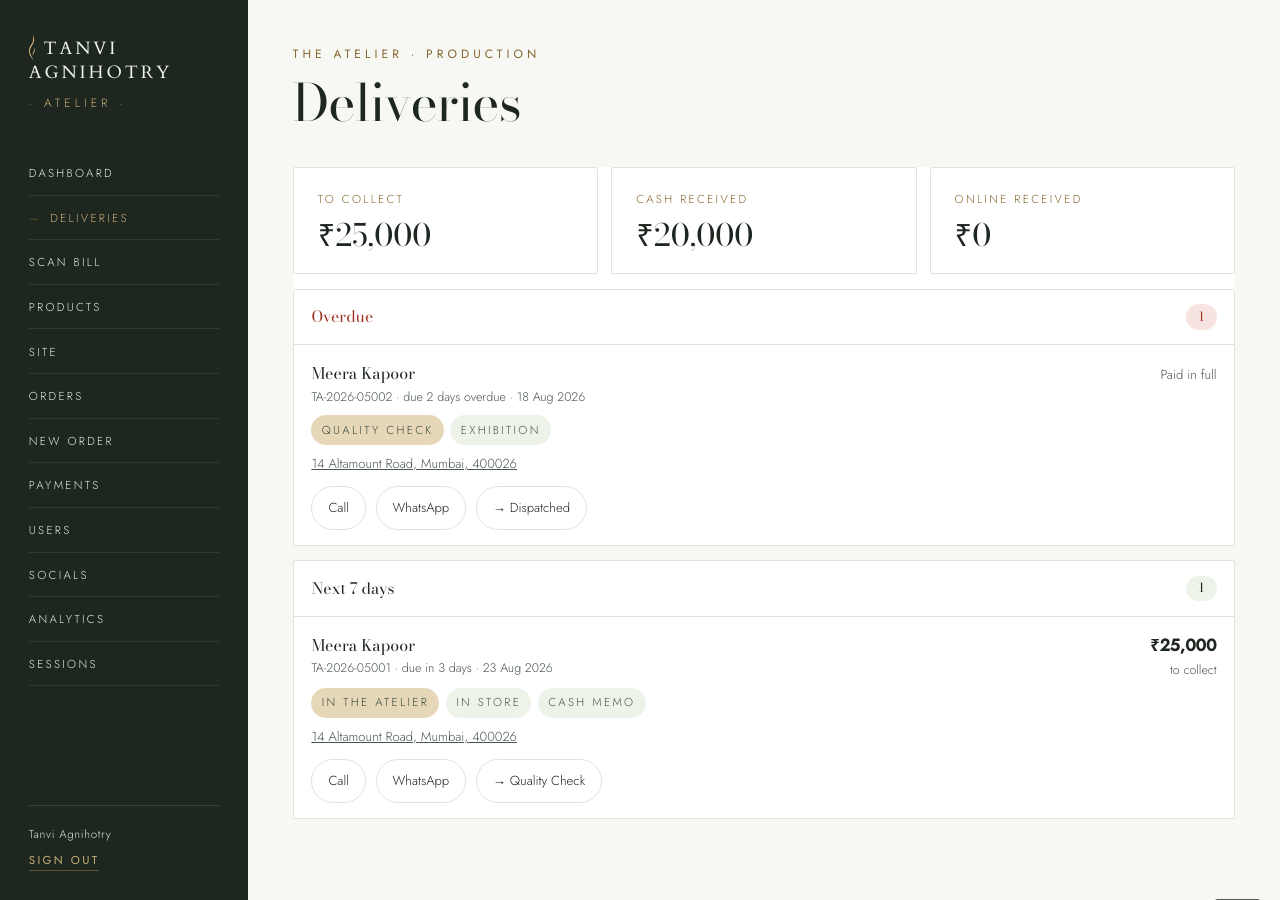
it: Deliveries page › renders totals and buckets, and advances an order to its next status
The width and height of the screenshot is (1280, 900).
Expected: the text "To collect" is shown, [318,191,404,207]
Expected: the text "₹25,000" next to "₹20,000" is shown, [318,211,431,258]
// Advance the in-atelier order one production step
Click the button "→ Quality Check": click(539, 780) [476,758,602,802]
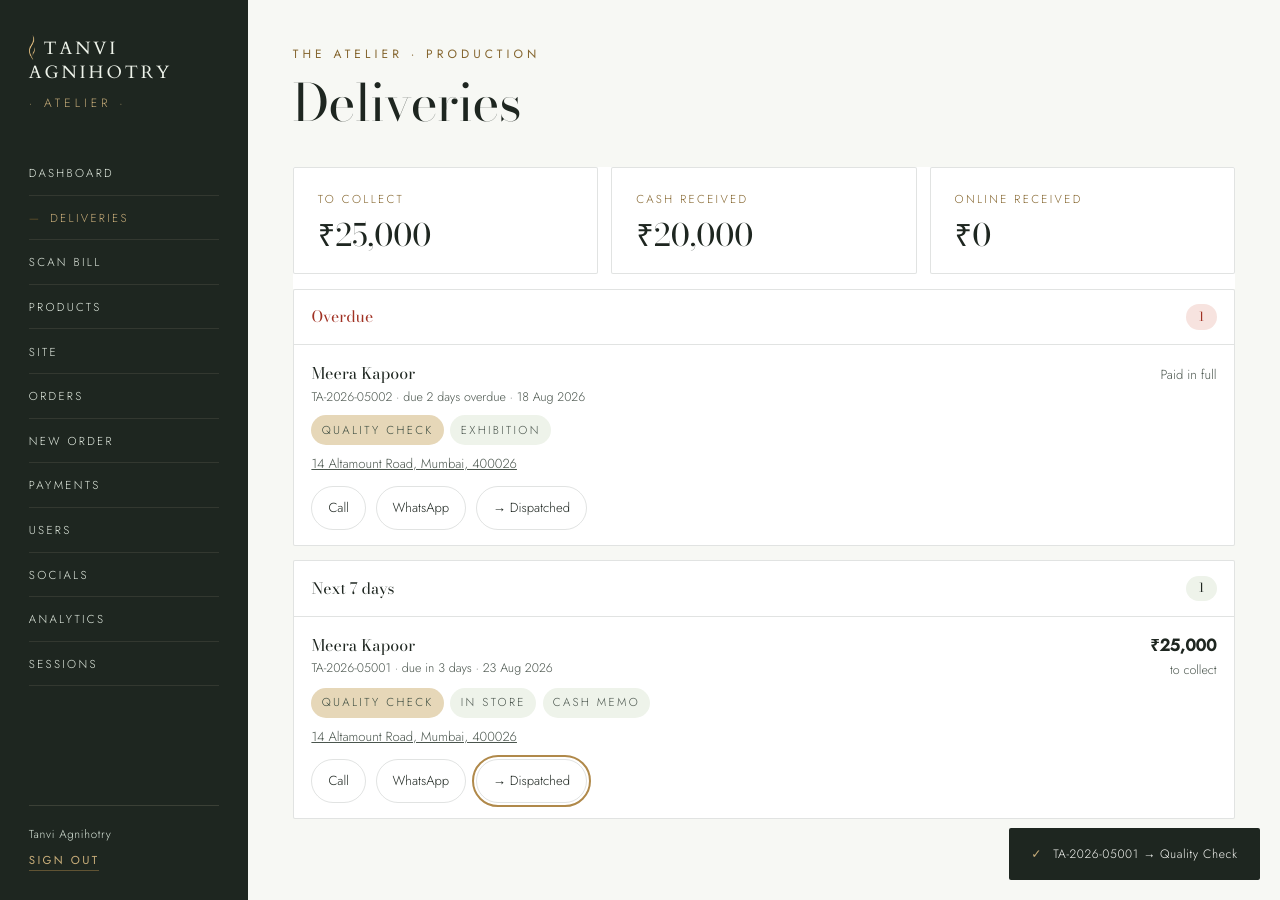
Expected: the text "TA-2026-05001 → Quality Check" is shown, [1053,844,1238,864]
